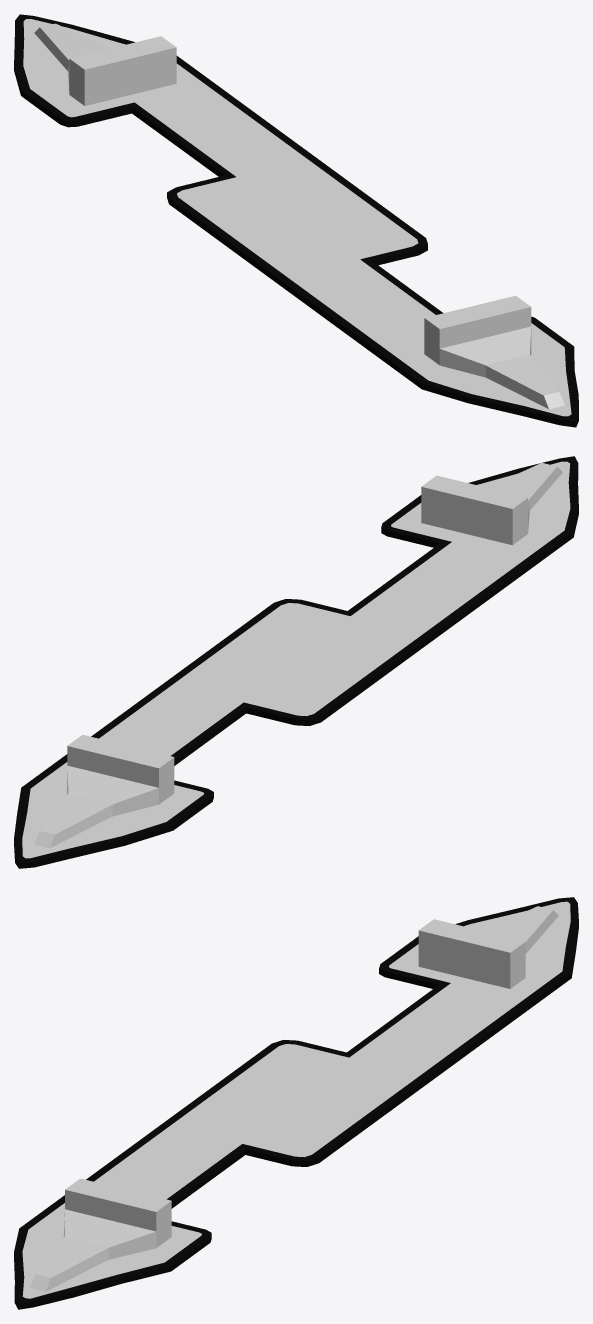
Rendered from TrotoarTengah.fbx.
3 renders of one model, top to bottom at view 1: azimuth 30°, elevation 25°; view 2: azimuth 150°, elevation 25°; view 3: azimuth 330°, elevation 25°, orthographic.
Visible parts, largest first — view 1: TrotoarDalam.001; view 2: TrotoarDalam.001; view 3: TrotoarDalam.001.
Part boxes in pixels (<box>): TrotoarDalam.001: <box>14,14,578,427</box>; TrotoarDalam.001: <box>14,456,578,868</box>; TrotoarDalam.001: <box>14,897,578,1309</box>.
Bounding box in the file's own units: 570 × 151 × 3608.
2 materials, 1 textured.
